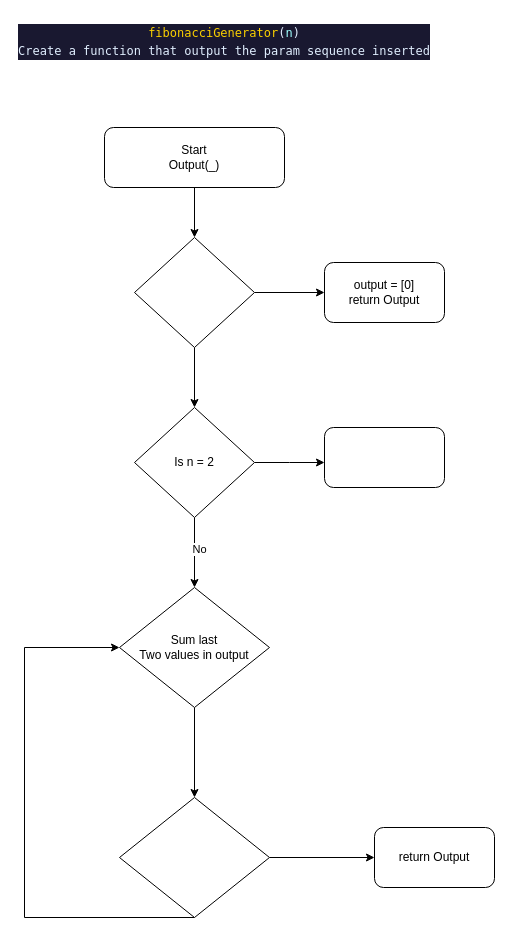
The diagram is 512 pixels wide and 943 high, and some of its shapes have lost their labels. Here are the shapes that lost their labels. From the top down, the centre of each, then its label:
[194,292]: Is n = 1
[384,457]: output = [0,1] return Output
[194,857]: Does n = numOfItem in Output
